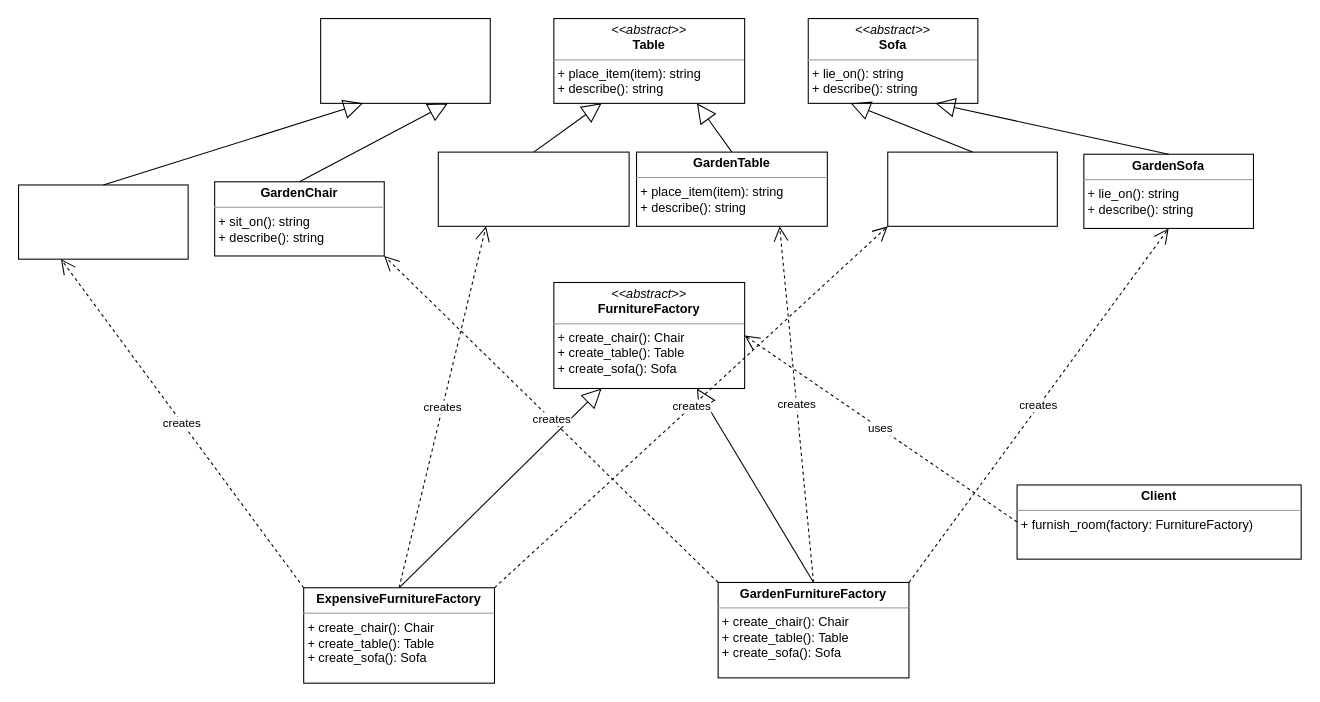
Some shapes in this 1320 by 702 pixel diagram are drawn without their labels. The box of each missing label's shape, as (x1, y1, x2, y2) in pixels:
<<abstract>> Chair + sit_on(): string + describe(): string: (320, 17, 490, 103)
ExpensiveChair + sit_on(): string + describe(): string: (17, 184, 188, 259)
ExpensiveSofa + lie_on(): string + describe(): string: (887, 151, 1057, 226)
ExpensiveTable + place_item(item): string + describe(): string: (437, 151, 629, 226)
